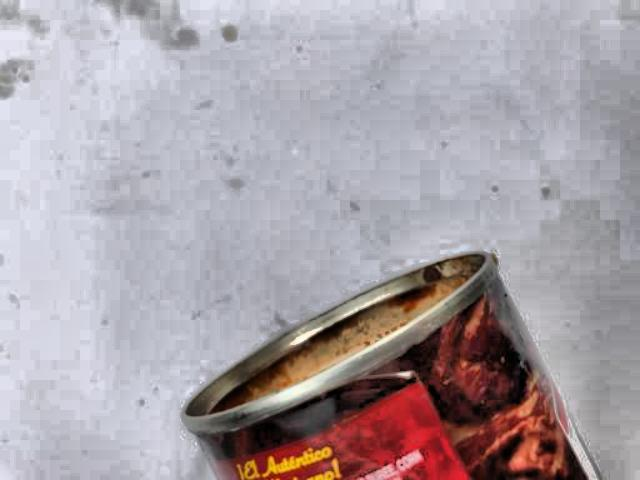Almennt: (146, 234, 606, 480)
